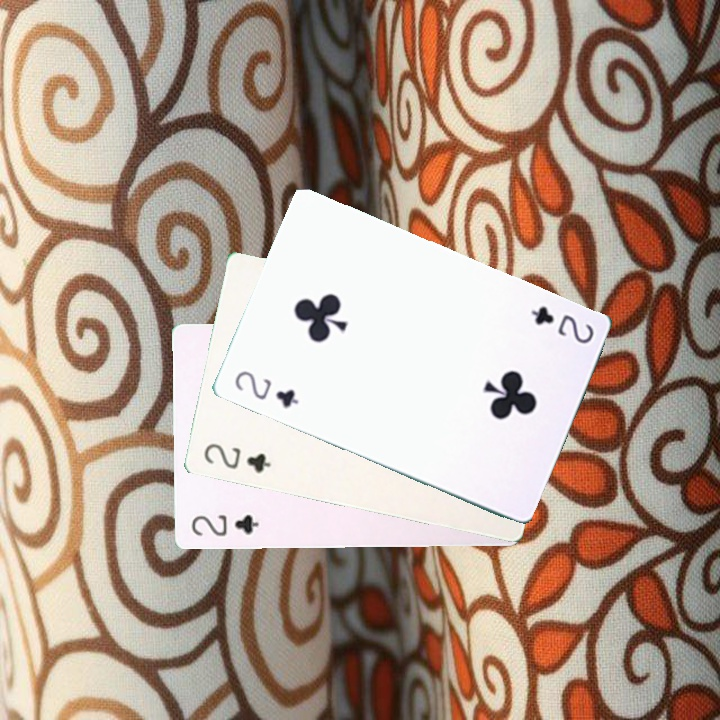2c: (230, 366, 301, 412), (526, 302, 597, 347), (200, 439, 274, 476), (188, 511, 262, 539)
